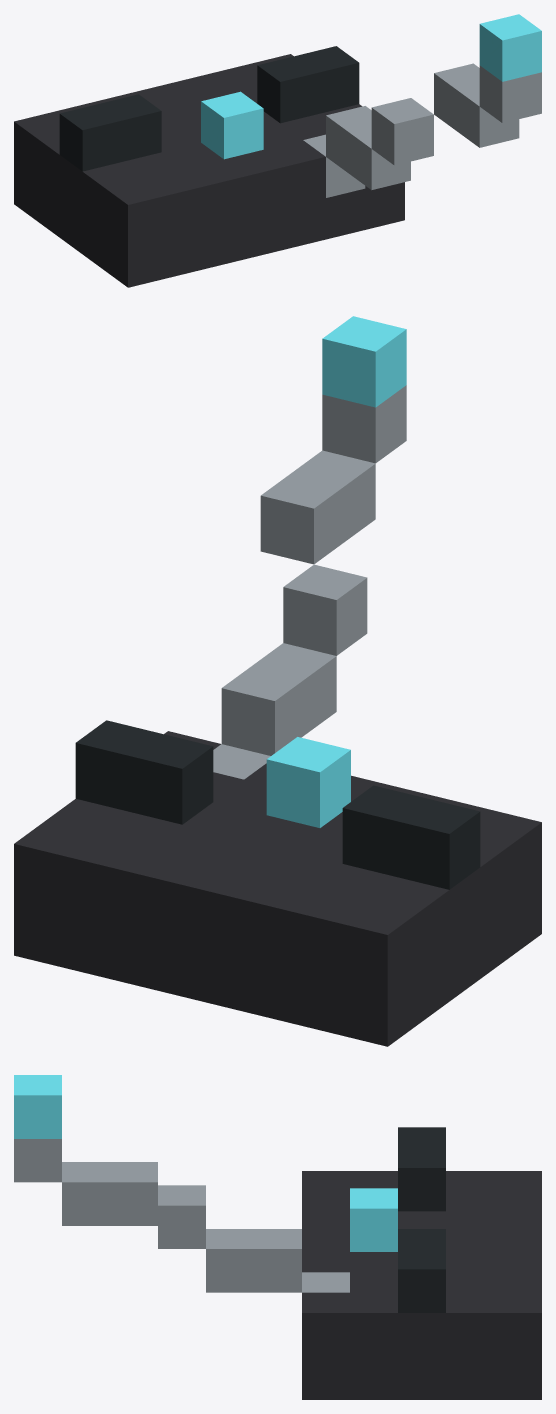
The model's file is vox_remote.glb.
3 views of the same model, one above another, from view 1: azimuth 30°, elevation 25°; view 2: azimuth 150°, elevation 25°; view 3: azimuth 270°, elevation 25° (orthographic). The views are drawn at different scales.
Visible parts, largest first — view 1: vox_remote; view 2: vox_remote; view 3: vox_remote.
Part boxes in pixels (x1,y1,x2,y2): vox_remote: (14,14,541,287); vox_remote: (14,316,541,1046); vox_remote: (14,1075,541,1399).
Size of the model in its own units: 0.14 by 0.14 by 0.22.
